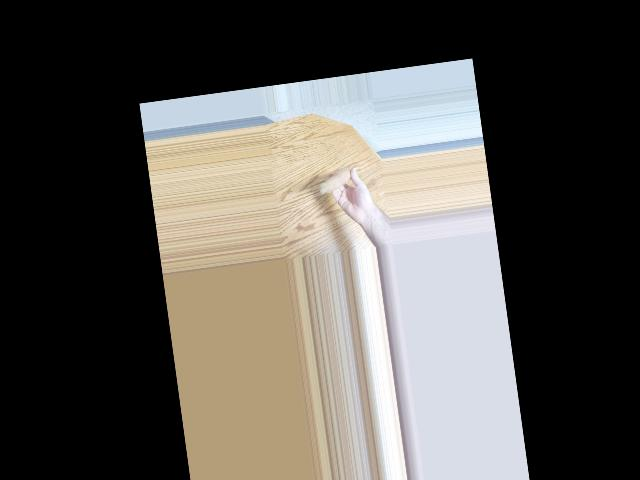sweet_potato: (316, 167, 355, 196)
